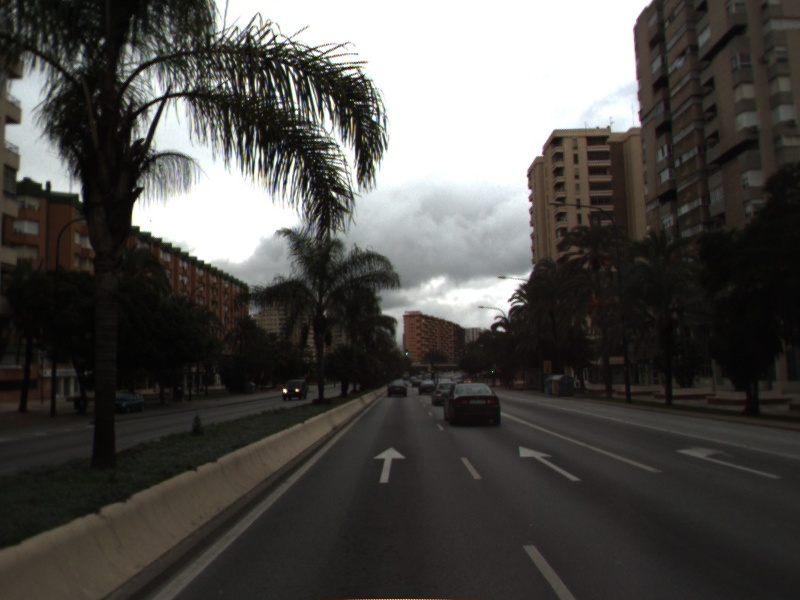RIGHT: (673, 442, 785, 481)
STRAIGHT: (517, 444, 584, 484), (371, 445, 409, 485)
